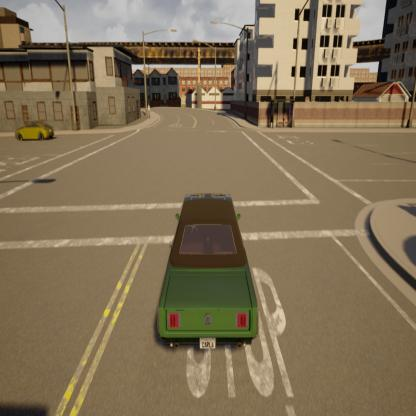Cars: (158, 195, 259, 349), (16, 119, 53, 142)
Pedestrian: (148, 102, 150, 119)
